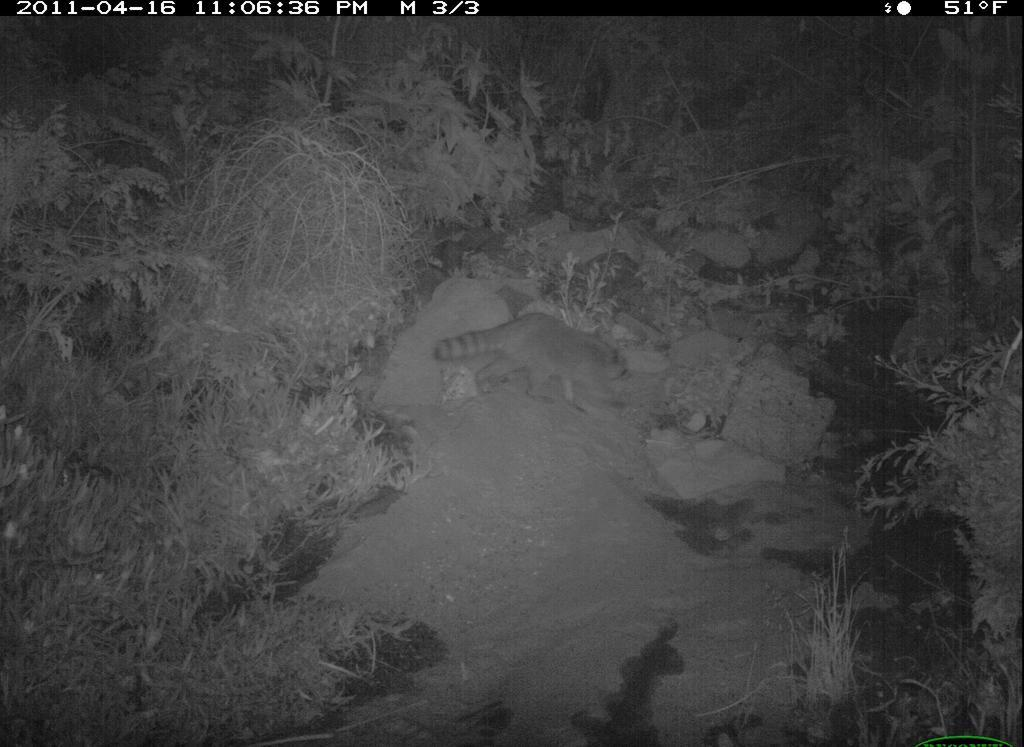raccoon: (410, 294, 656, 427)
